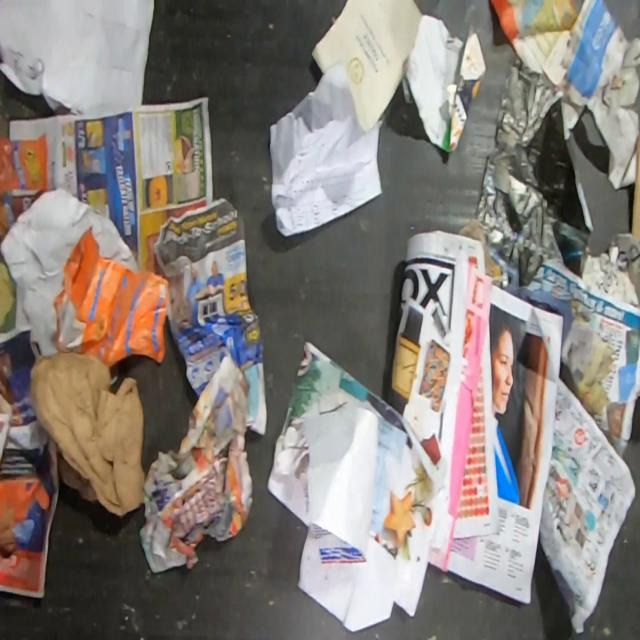cardboard: (630, 129, 640, 244)
